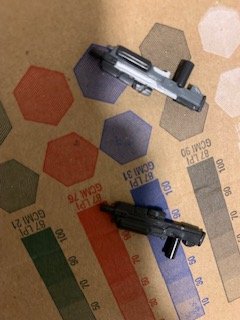rifle: (86, 41, 208, 116), (92, 196, 207, 262)
